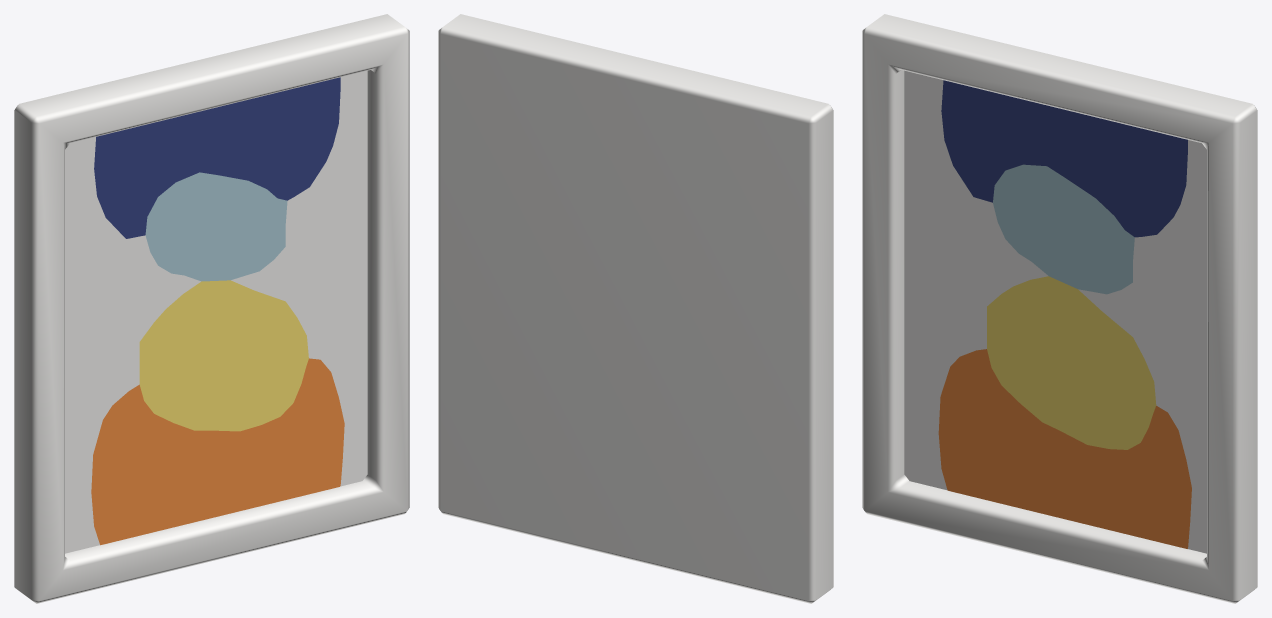
File: Frame_2.glb
3 renders of one model, left to right at view 1: azimuth 30°, elevation 25°; view 2: azimuth 150°, elevation 25°; view 3: azimuth 330°, elevation 25°, orthographic.
Parts seen in each view (by area): view 1: Painting_19; view 2: Painting_19; view 3: Painting_19.
Boxes of the visible parts, <box> form: Painting_19: <box>14,14,409,603</box>; Painting_19: <box>438,14,833,603</box>; Painting_19: <box>862,14,1257,603</box>.
Size of the model in its own units: 0.9811 by 1.21 by 0.1034.
1 material, 1 textured.
